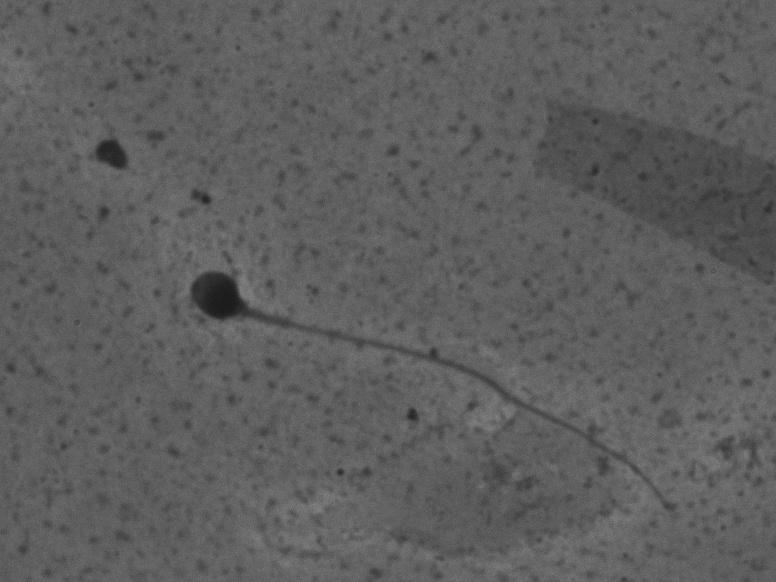Abnormal: (161, 231, 717, 525)
